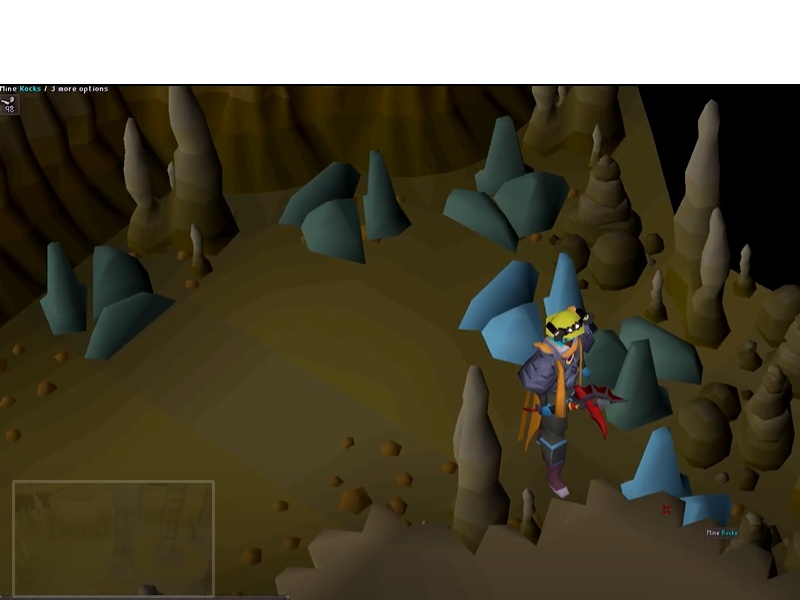adamant: (439, 114, 574, 256), (35, 238, 178, 365), (274, 147, 416, 270), (578, 311, 707, 435)
rune: (455, 249, 598, 368), (615, 424, 737, 535)
